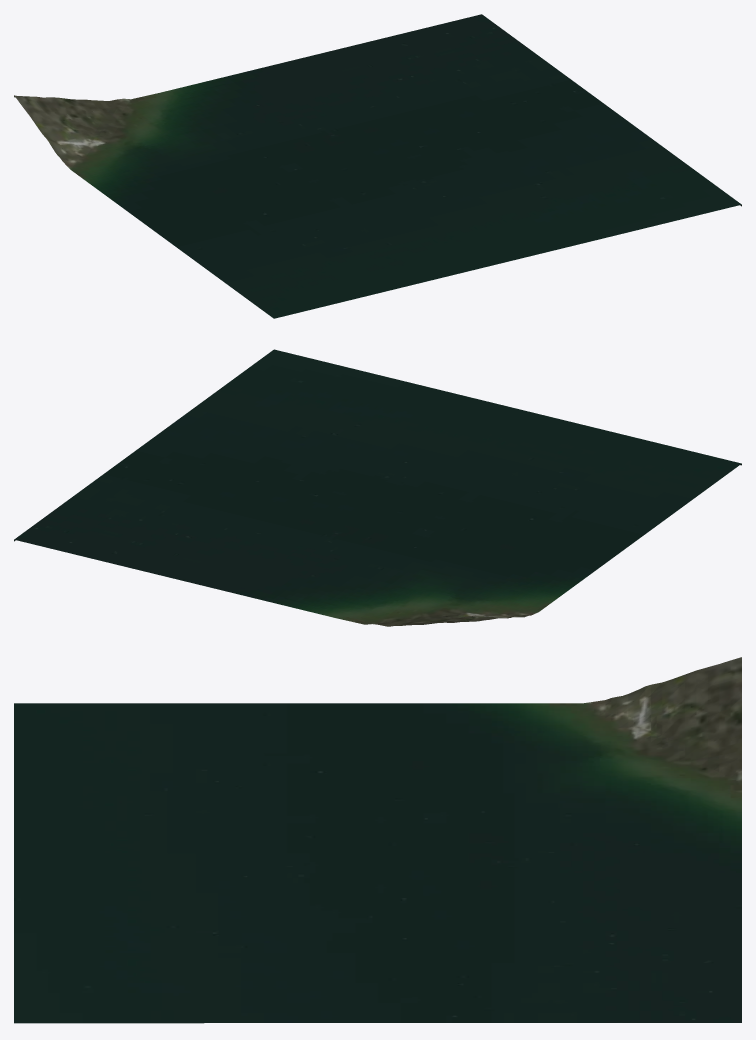
3 views of the same model, one above another, from view 1: azimuth 30°, elevation 25°; view 2: azimuth 150°, elevation 25°; view 3: azimuth 270°, elevation 25° (orthographic). The views are drawn at different scales.
Bounding box in the file's own units: 250 × 17.96 × 241.
1 material, 1 textured.
